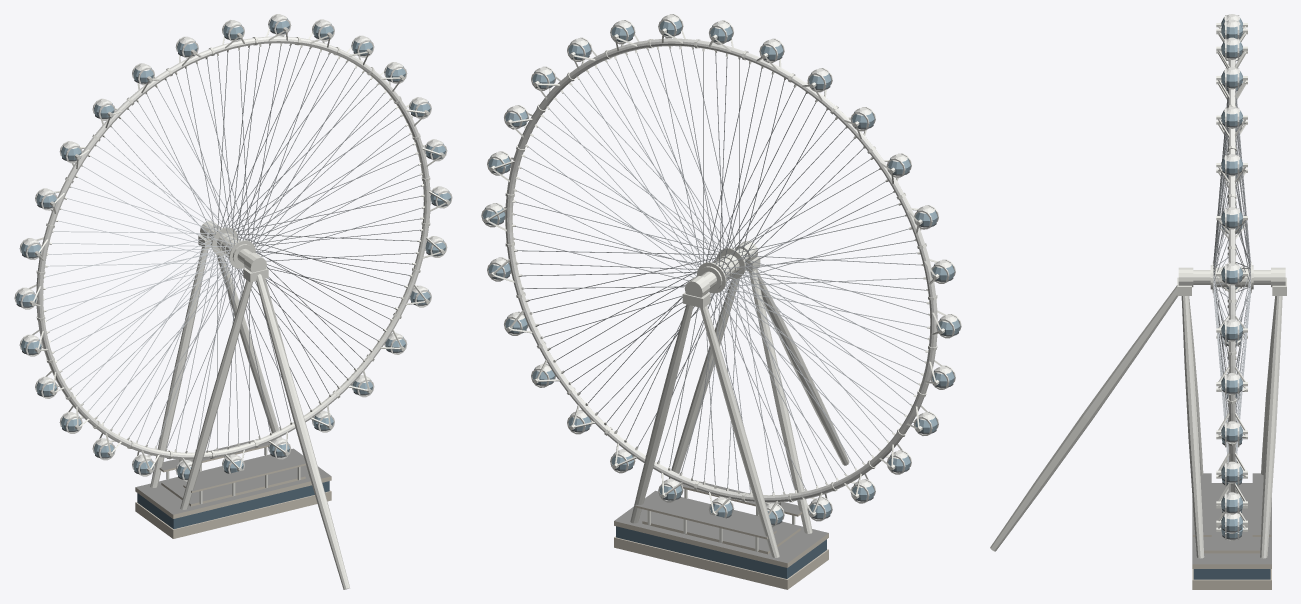
Rendered from high_roller.glb.
3 renders of one model, left to right at view 1: azimuth 30°, elevation 25°; view 2: azimuth 150°, elevation 25°; view 3: azimuth 270°, elevation 25°, orthographic. The views are drawn at different scales.
Visible parts, largest first — view 1: Rotor, Support; view 2: Rotor, Support; view 3: Support, Rotor, Cabin_18, Cabin_19, Cabin_00, Cabin_22, Cabin_26, Cabin_27, Cabin_24, Cabin_20, Cabin_21, Cabin_23 (+1 smaller).
Boxes of the visible parts, bbox=[...] form: Rotor: bbox=[28, 27, 449, 472]; Support: bbox=[135, 220, 349, 589]; Rotor: bbox=[484, 28, 945, 517]; Support: bbox=[614, 240, 849, 589]; Support: bbox=[990, 267, 1286, 589]; Rotor: bbox=[1210, 23, 1253, 531]; Cabin_18: bbox=[1221, 492, 1242, 514]; Cabin_19: bbox=[1221, 461, 1242, 483]; Cabin_00: bbox=[1221, 37, 1242, 59]; Cabin_22: bbox=[1221, 319, 1242, 341]; Cabin_26: bbox=[1221, 106, 1242, 128]; Cabin_27: bbox=[1221, 67, 1242, 89]; Cabin_24: bbox=[1221, 207, 1242, 229]; Cabin_20: bbox=[1221, 421, 1242, 443]; Cabin_21: bbox=[1221, 373, 1242, 395]; Cabin_23: bbox=[1221, 263, 1242, 285].
Size of the model in its own units: 159 by 170 by 89.42.
